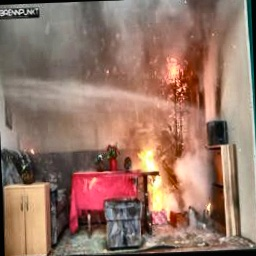fire: (135, 146, 166, 205)
smoke: (160, 114, 214, 205)
